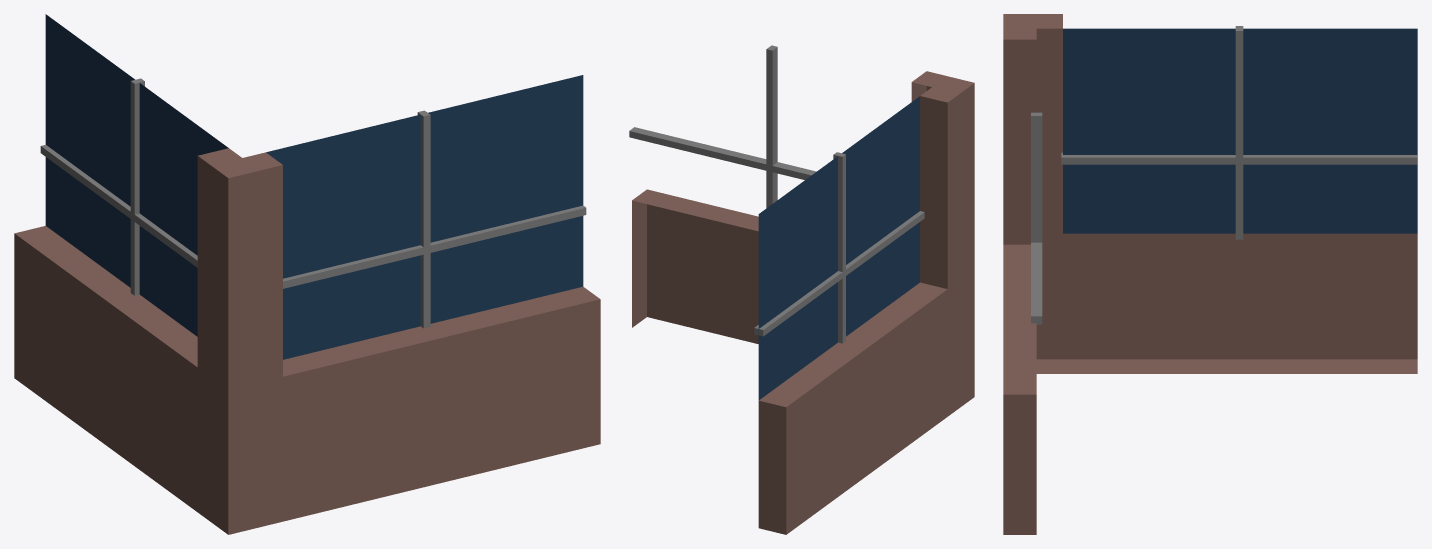
The picture shows the model from 3 angles, left to right: view 1: azimuth 30°, elevation 25°; view 2: azimuth 150°, elevation 25°; view 3: azimuth 270°, elevation 25°; orthographic projection. The views are drawn at different scales.
Visible parts, largest first — view 1: base-c1; view 2: base-c1; view 3: base-c1.
Boxes of the visible parts, x1,y1,x2,y2 form: base-c1: [14, 14, 600, 534]; base-c1: [629, 45, 974, 534]; base-c1: [1003, 14, 1417, 534].
Size of the model in its own units: 3.28 by 3 by 3.26.
